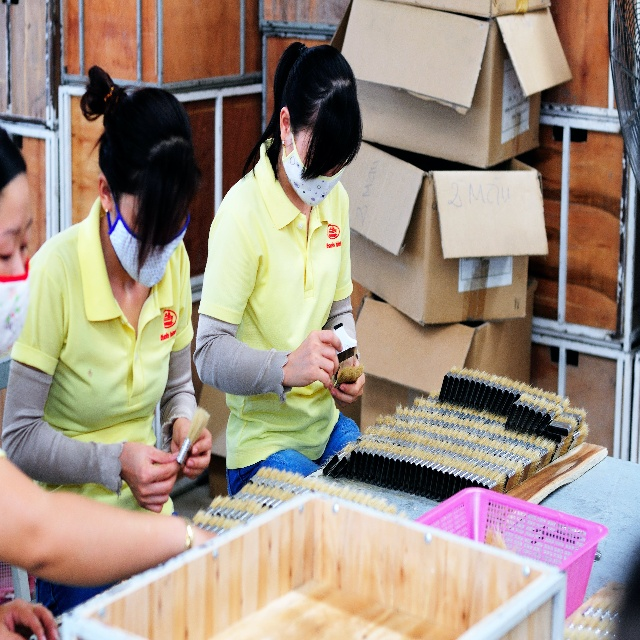Mascara: (106, 189, 190, 290), (283, 121, 348, 210), (0, 263, 33, 356)
Sin_guantes: (120, 440, 185, 513), (288, 329, 343, 389), (169, 417, 211, 482), (0, 598, 60, 640), (328, 357, 366, 408)
